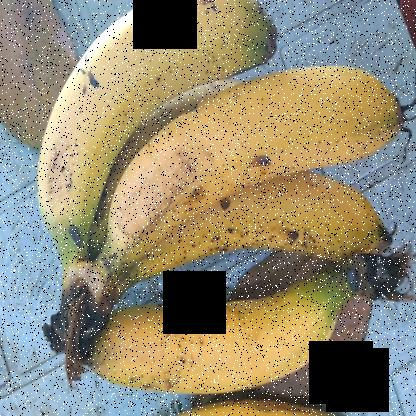ripe: (100, 59, 396, 311), (13, 0, 242, 256), (84, 282, 334, 415), (132, 183, 381, 309)
